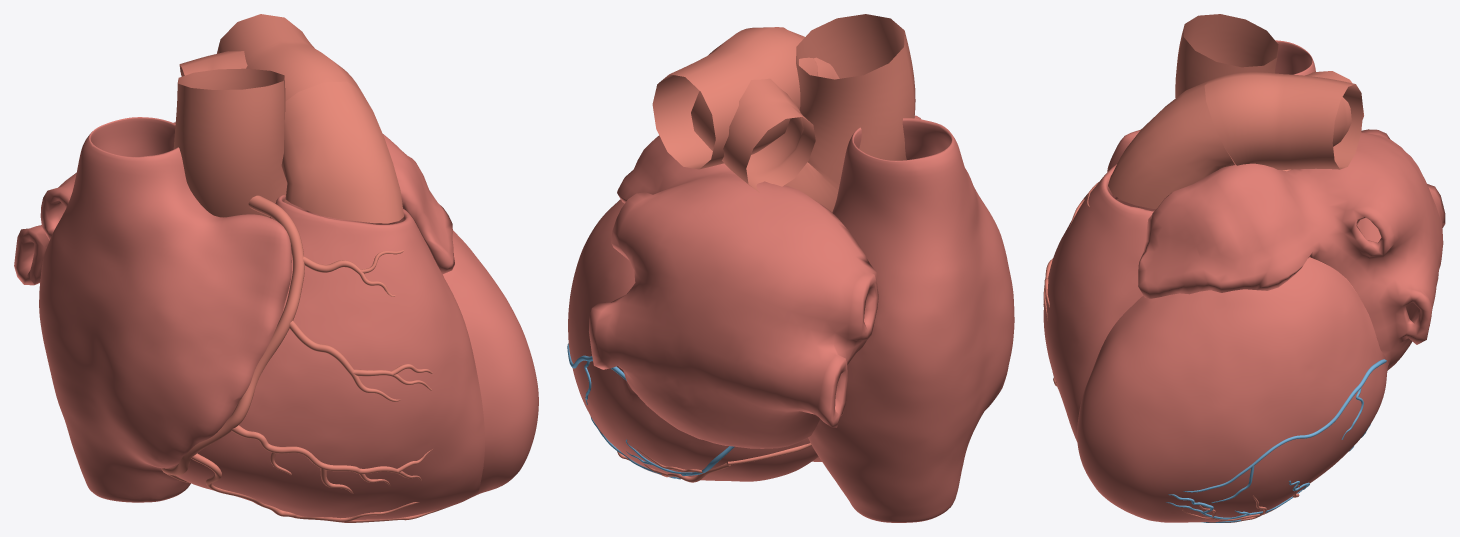
The model's file is heart.glb.
The picture shows the model from 3 angles, left to right: view 1: azimuth 30°, elevation 25°; view 2: azimuth 150°, elevation 25°; view 3: azimuth 270°, elevation 25°; orthographic projection. The views are drawn at different scales.
Parts seen in each view (by area): view 1: Right atrium.001, Right ventricle.001, Ascending aorta.001, Pulmonary trunk.001, Left ventricle.001, Right coronary artery.001, Bifurcation of pulmonary trunk.001, Left atrium.001; view 2: Left atrium.001, Right atrium.001, Bifurcation of pulmonary trunk.001, Ascending aorta.001, Left ventricle.001, Inferior vein of left ventricle (//Posterior '').001, Right inferolateral branch of right coronary artery.001; view 3: Left ventricle.001, Left atrium.001, Right ventricle.001, Bifurcation of pulmonary trunk.001, Pulmonary trunk.001, Ascending aorta.001, Right atrium.001, Inferior vein of left ventricle.001, Inferior vein of left ventricle (//Posterior '').001.
Part boxes in pixels (bbox=[...]): Right atrium.001: bbox=[39, 117, 291, 502]; Right ventricle.001: bbox=[165, 195, 484, 519]; Ascending aorta.001: bbox=[173, 68, 288, 217]; Pulmonary trunk.001: bbox=[281, 81, 403, 223]; Left ventricle.001: bbox=[443, 230, 538, 494]; Right coronary artery.001: bbox=[161, 195, 449, 522]; Bifurcation of pulmonary trunk.001: bbox=[179, 14, 360, 101]; Left atrium.001: bbox=[14, 122, 454, 285]; Left atrium.001: bbox=[589, 135, 878, 448]; Right atrium.001: bbox=[808, 115, 1014, 522]; Bifurcation of pulmonary trunk.001: bbox=[652, 27, 817, 192]; Ascending aorta.001: bbox=[785, 14, 915, 212]; Left ventricle.001: bbox=[568, 199, 818, 481]; Inferior vein of left ventricle (//Posterior '').001: bbox=[590, 416, 734, 479]; Right inferolateral branch of right coronary artery.001: bbox=[599, 429, 730, 482]; Left ventricle.001: bbox=[1077, 257, 1388, 522]; Left atrium.001: bbox=[1138, 129, 1445, 370]; Right ventricle.001: bbox=[1043, 164, 1155, 441]; Bifurcation of pulmonary trunk.001: bbox=[1204, 71, 1363, 169]; Pulmonary trunk.001: bbox=[1108, 81, 1235, 209]; Ascending aorta.001: bbox=[1175, 14, 1290, 171]; Right atrium.001: bbox=[1107, 40, 1315, 257]; Inferior vein of left ventricle.001: bbox=[1168, 359, 1386, 513]; Inferior vein of left ventricle (//Posterior '').001: bbox=[1166, 424, 1370, 522].
Bounding box in the file's own units: 0.1191 × 0.1268 × 0.1129.
